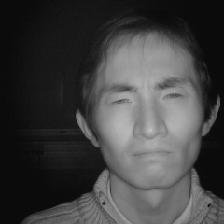sad: (72, 11, 224, 191)
